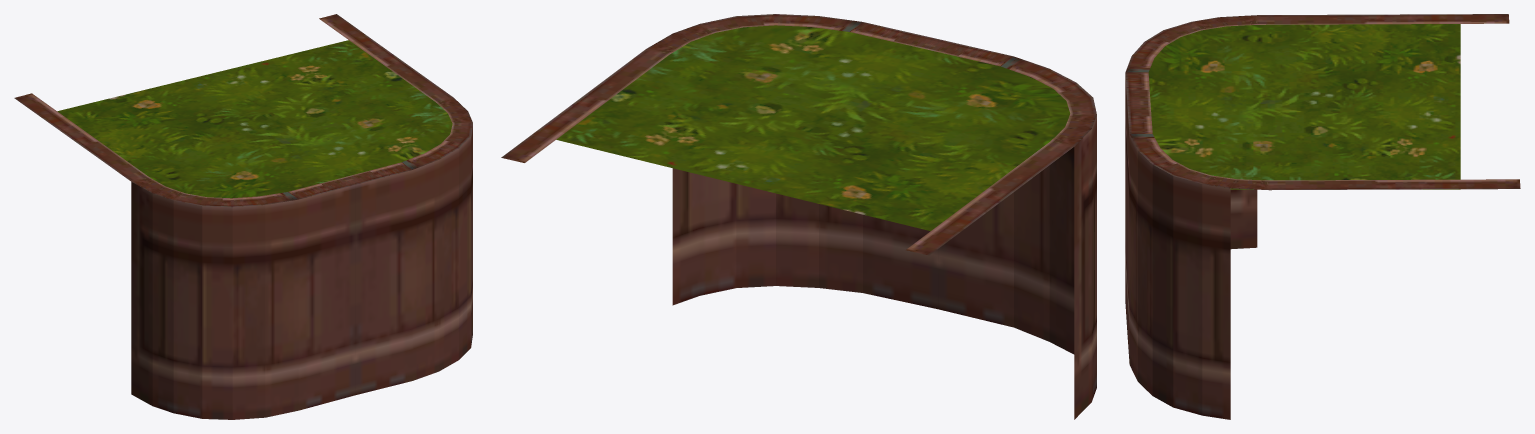
The model's file is huatan.FBX.
3 views of the same model, side by side, from view 1: azimuth 30°, elevation 25°; view 2: azimuth 150°, elevation 25°; view 3: azimuth 270°, elevation 25° (orthographic). The views are drawn at different scales.
Parts seen in each view (by area): view 1: 对象022, Object002; view 2: Object002, 对象022; view 3: Object002, 对象022.
Boxes of the visible parts, x1=… form: 对象022: x1=14, y1=14, x2=472, y2=419; Object002: x1=57, y1=40, x2=452, y2=198; Object002: x1=556, y1=25, x2=1070, y2=231; 对象022: x1=501, y1=14, x2=1096, y2=419; Object002: x1=1148, y1=24, x2=1460, y2=189; 对象022: x1=1125, y1=14, x2=1520, y2=419.
Size of the model in its own units: 4.59 by 2.83 by 4.35.
